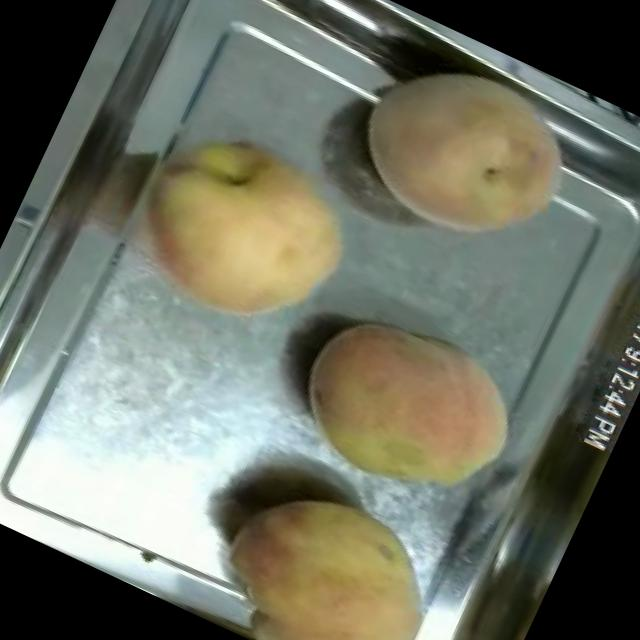Fruit: (325, 21, 607, 281), (268, 282, 548, 534), (114, 103, 384, 364), (189, 450, 475, 640)
